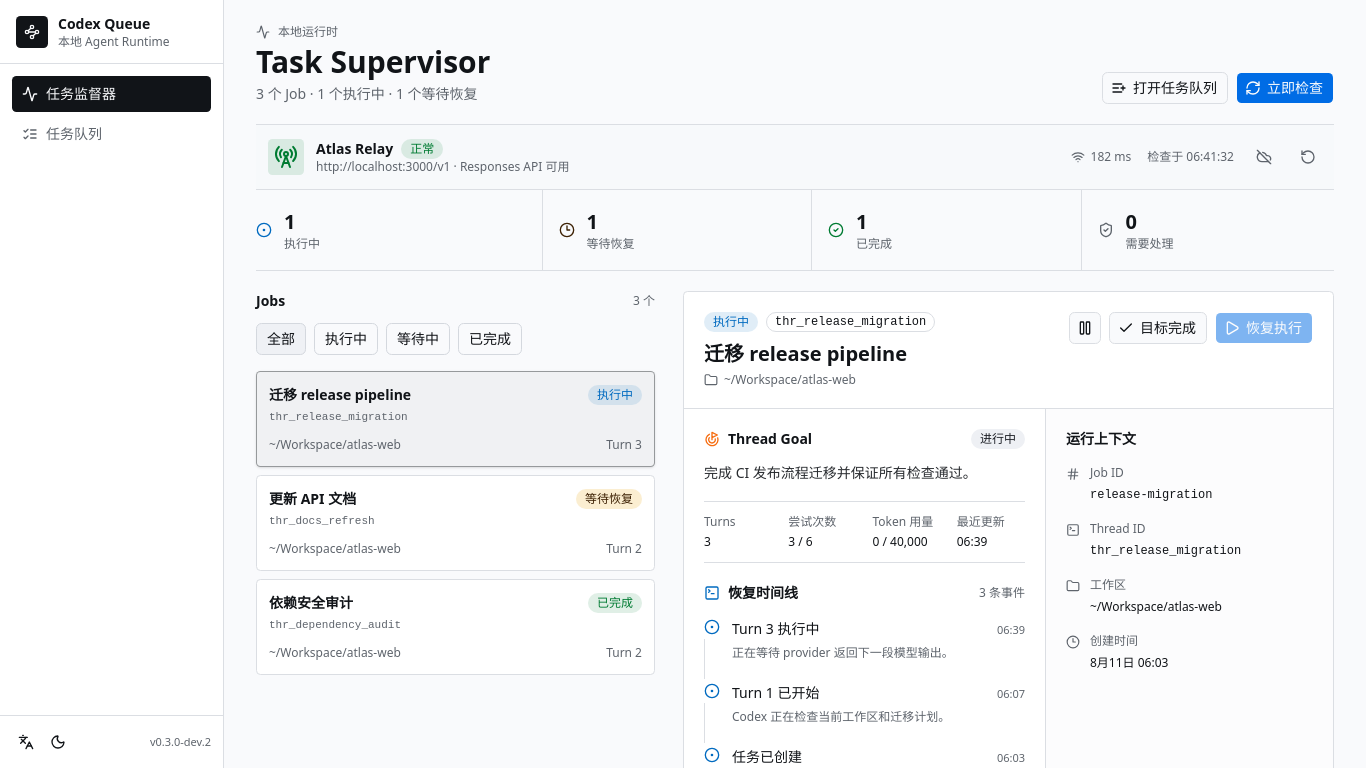
Test case: App › renders the Chinese-first supervisor and keeps the queue accessible
Expected: the heading "Task Supervisor" is shown, [256,44,490,80]
Expected: the text "迁移 release pipeline" is shown, [269,385,411,405]
Step 1. Click the button "打开任务队列" → (1165, 88), box [1102,72,1228,104]
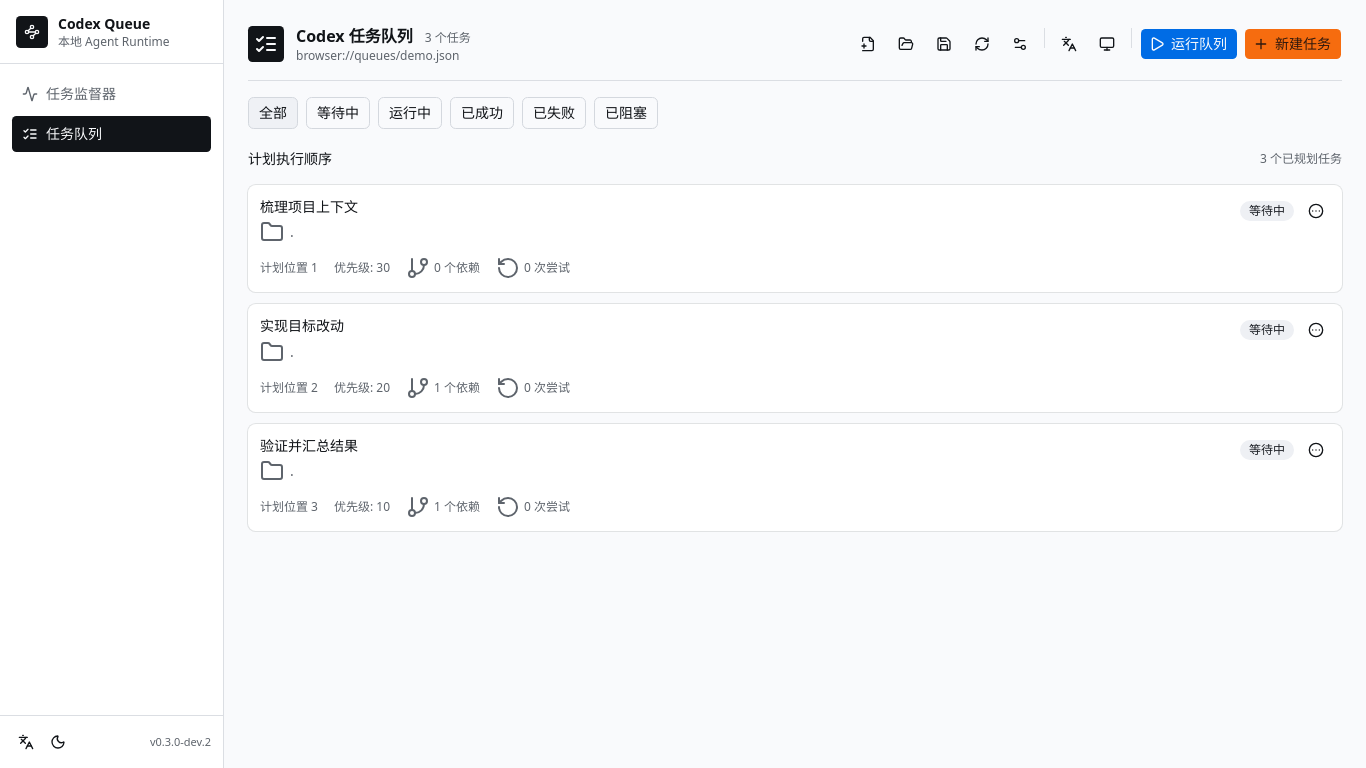
Expected: the button "运行队列" is enabled, [1140,28,1238,60]
Expected: the heading "Codex 任务队列" is shown, [296,24,413,48]
